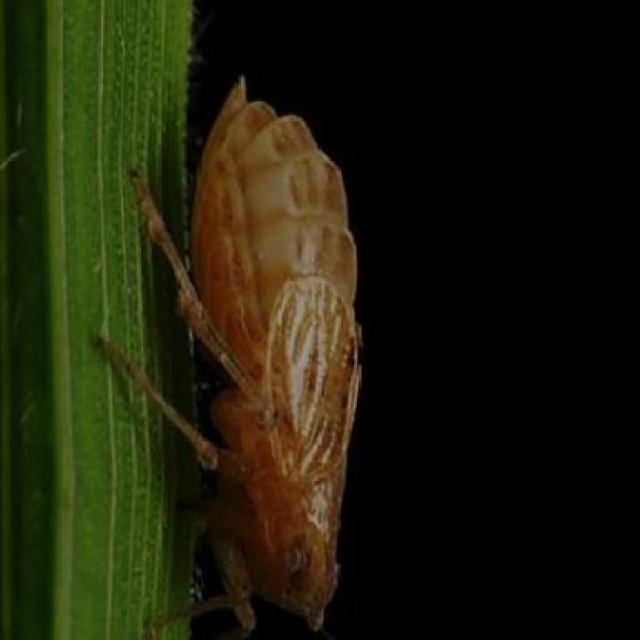brown-planthopper: (171, 68, 364, 624)
